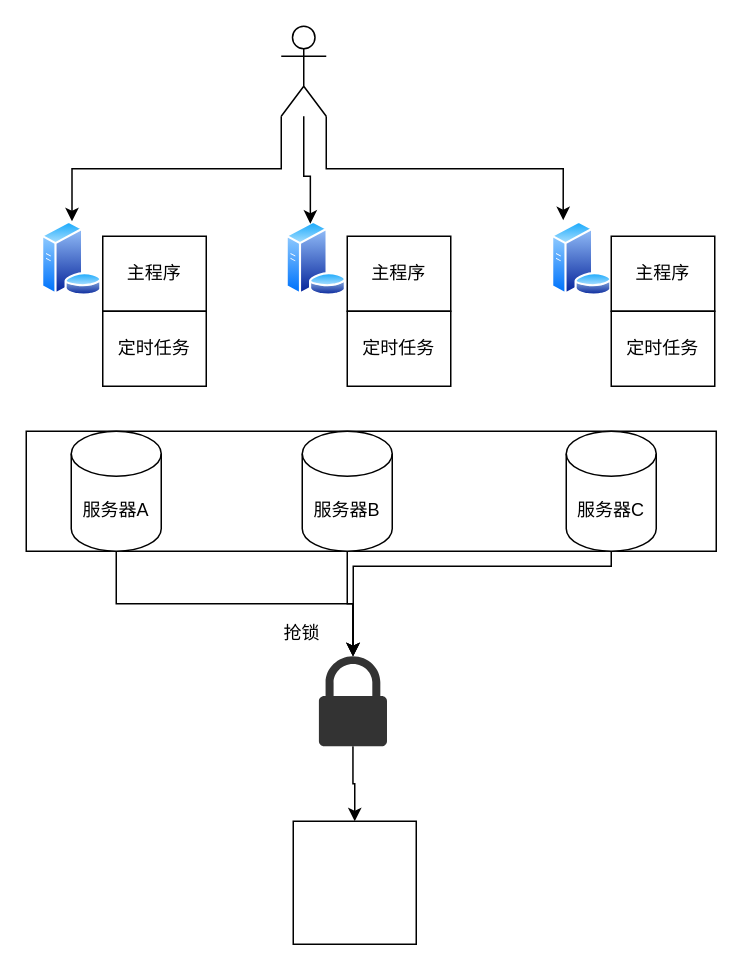
This 743x971 diagram has some shape labels left out. The shapes that lost their labels are listed below. From the top down, each one's centre as x and y in pixels, then its label:
At point 303,70: "用户".
At point 354,882: "执行定时任务".
